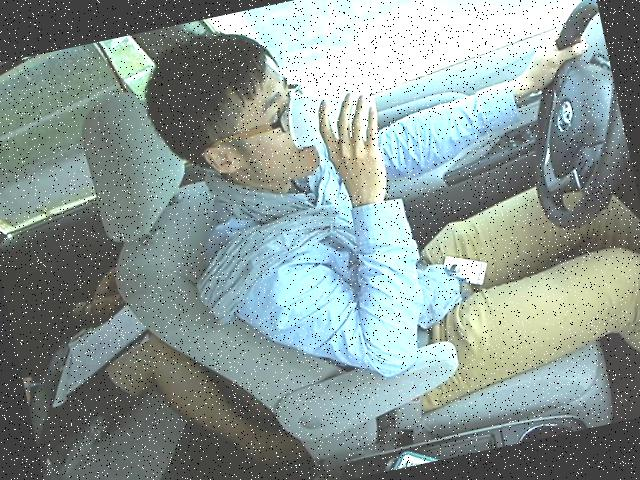c4 - Drinking: (119, 0, 639, 416)
